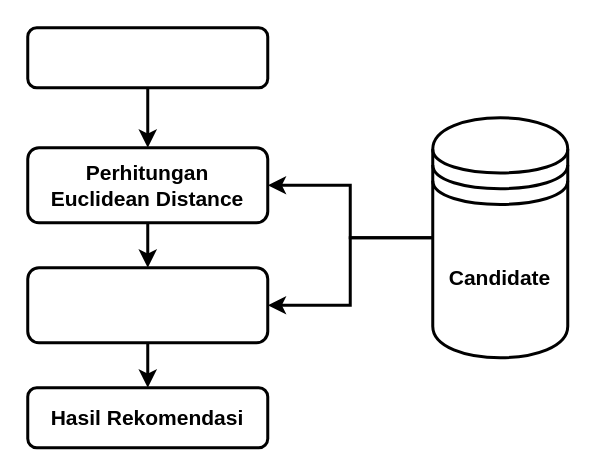
Image size: 594x474. Some labels were removed from this diagram. Here are the shapes that lost their labels. From the top down, the centre of each, then its label:
point 147,57: Profile
point 147,305: Perhitungan Cosine Similarity
